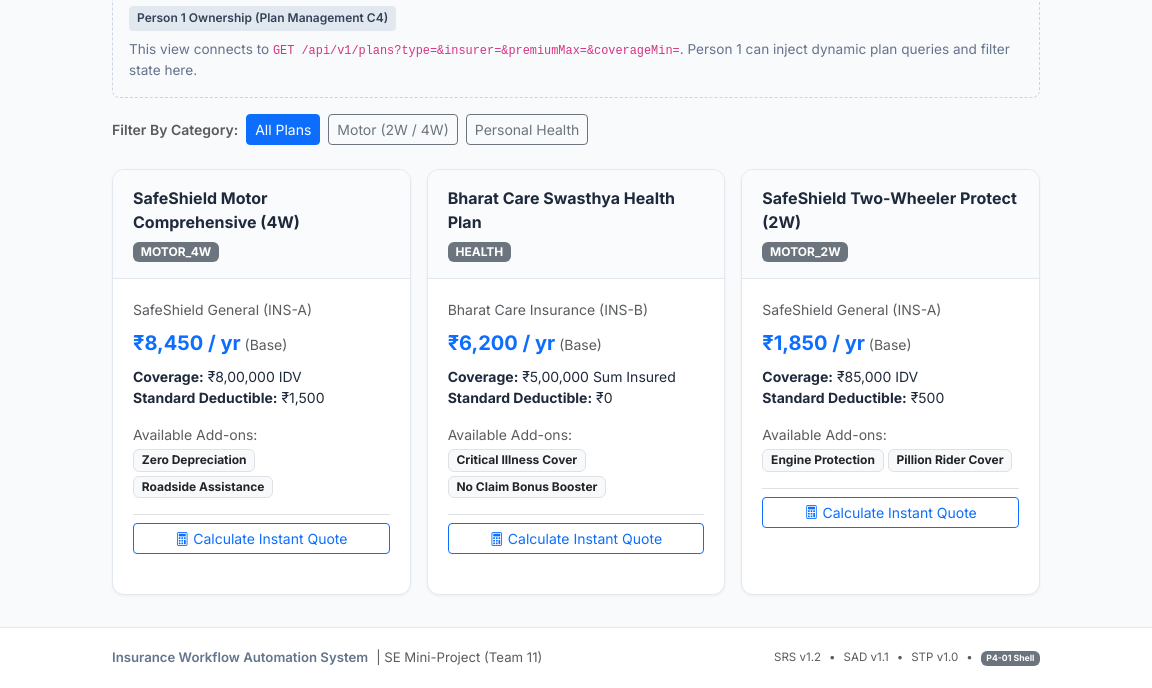
Scenario: End-to-End Quote Flow Integration (P1-08 -> P3-04a) › allows user to browse plans, navigate to quote calculation, see breakdown, and proceed to application with quoteId
(page scrolled)
Note: User clicks "Calculate Instant Quote" on the first plan (Motor 4W)
Click the button "Calculate Instant Quote" below "Roadside Assistance".
click(261, 538)  # box [133, 523, 390, 554]
(page scrolled)
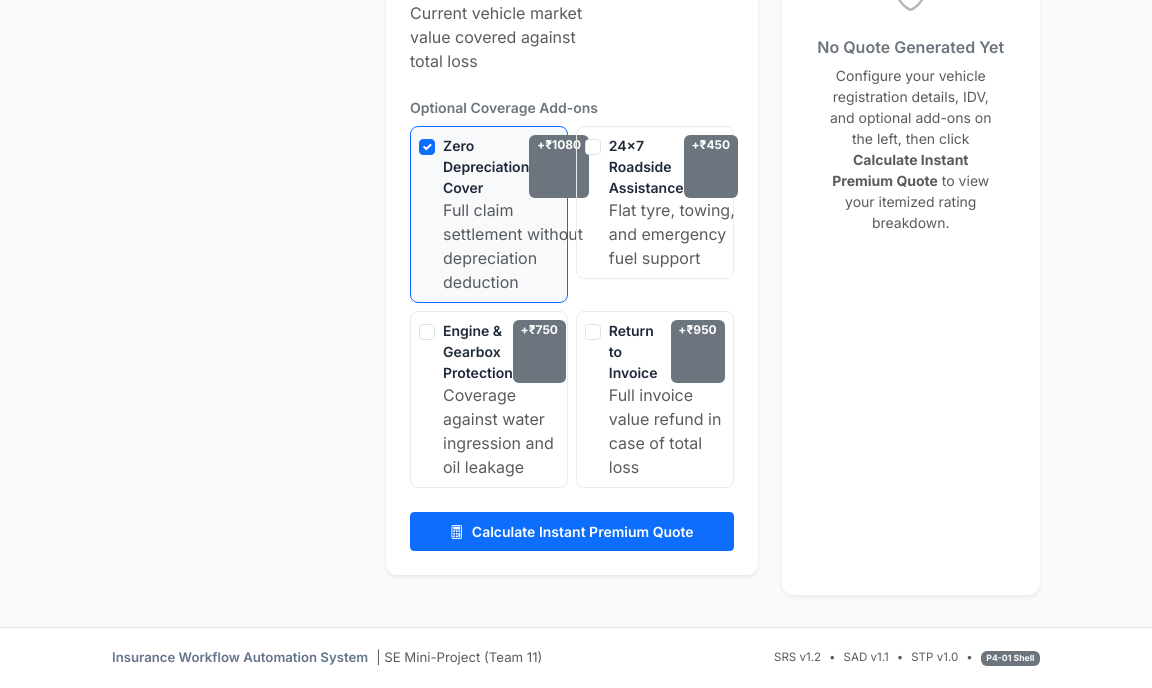
Note: Click "Calculate Instant Premium Quote"
Click the button "Calculate Instant Premium Quote".
click(572, 532)  # box [410, 512, 734, 551]
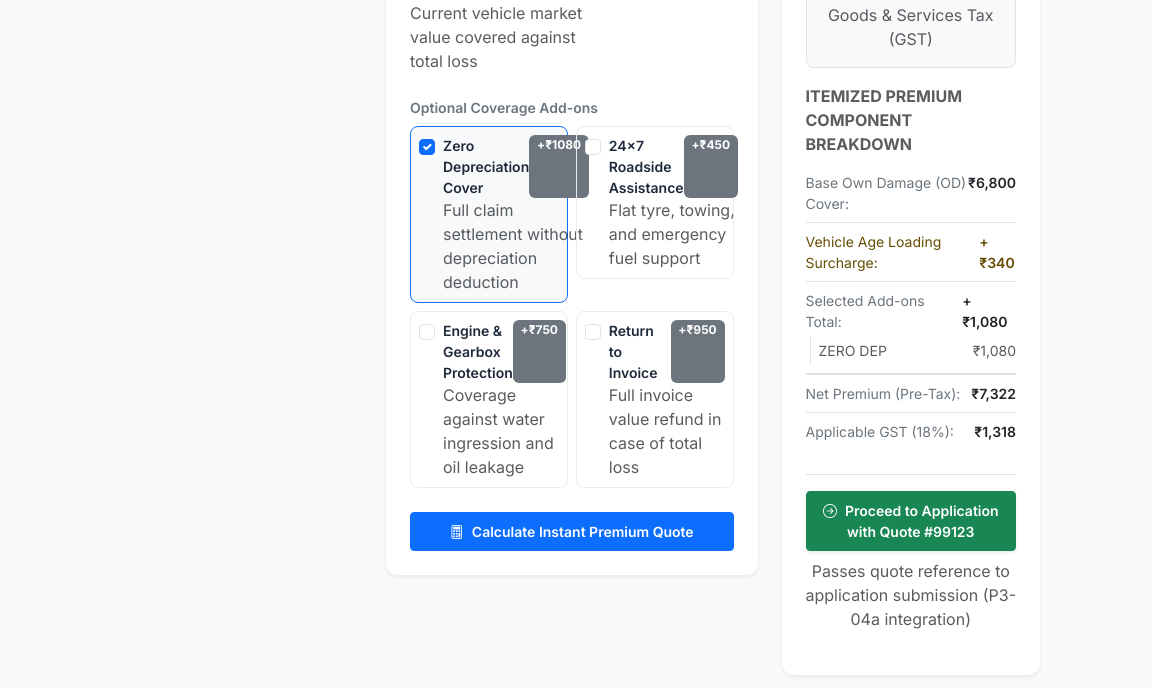
Note: Click "Proceed to Application with Quote #99123"
Click the button "Proceed to Application with Quote #99123".
click(911, 521)  # box [806, 491, 1016, 551]
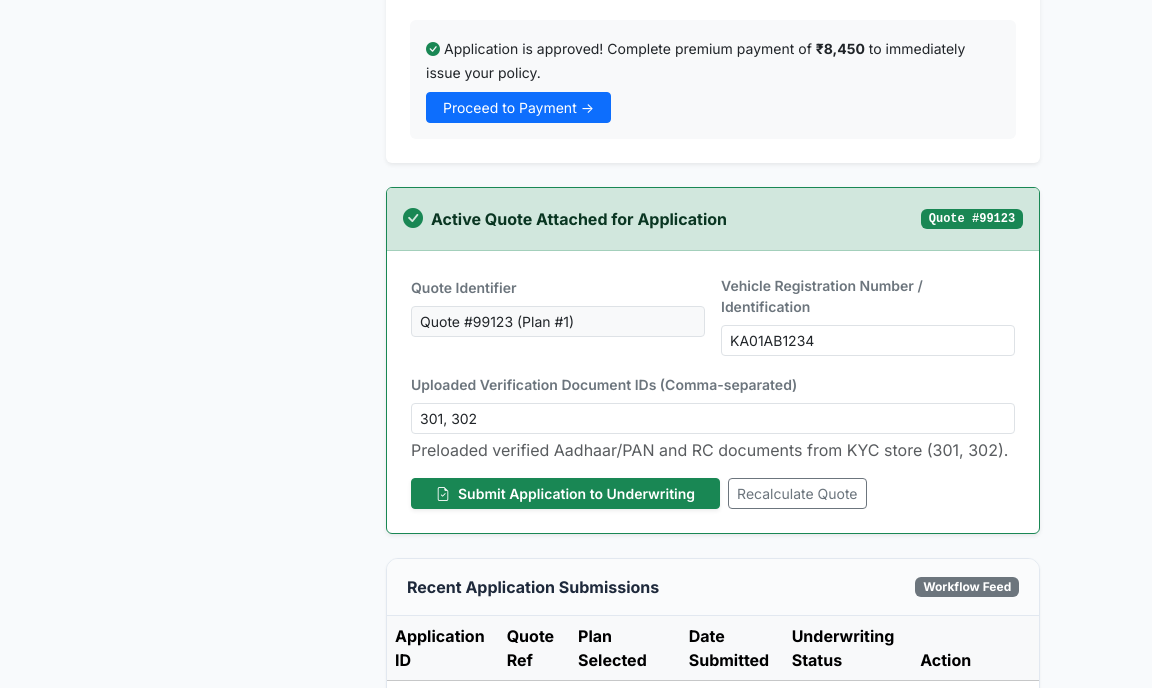
Now the text "Quote #99123" is shown, box [921, 209, 1023, 229]
Now the text "Active Quote Attached for Application" is shown, box [431, 207, 727, 231]
Now the button "Submit Application to Underwriting" is shown, box [411, 478, 720, 509]
